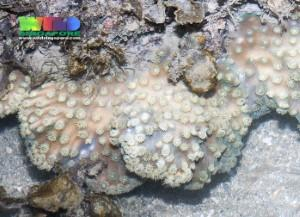bleached_corals: (10, 17, 296, 211), (230, 19, 300, 117)
